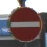No entry: (6, 6, 41, 42)
